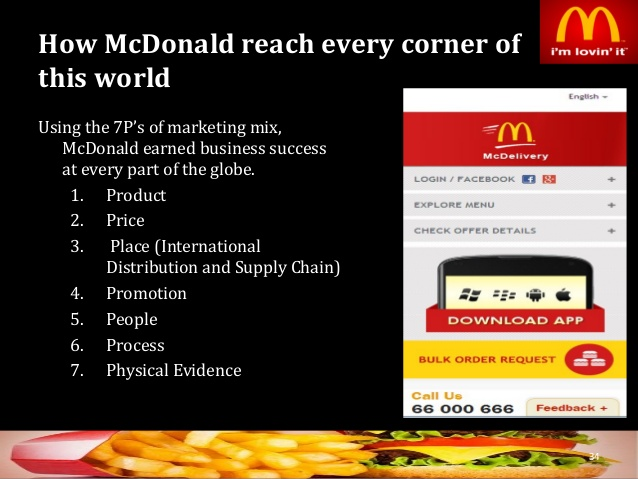mcdonalds: (555, 3, 623, 40), (496, 116, 537, 146)
